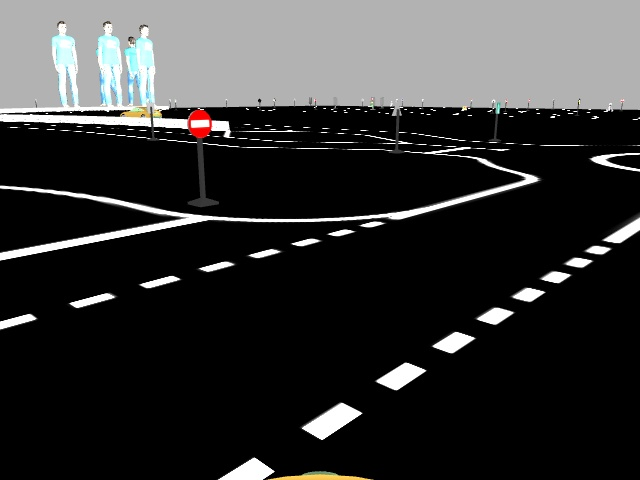NoEntry: (184, 107, 213, 141)
